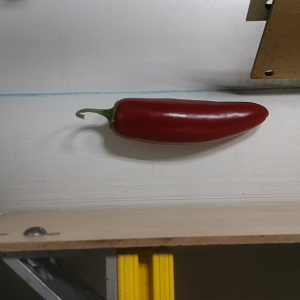Cut Point: (101, 96, 132, 136)
